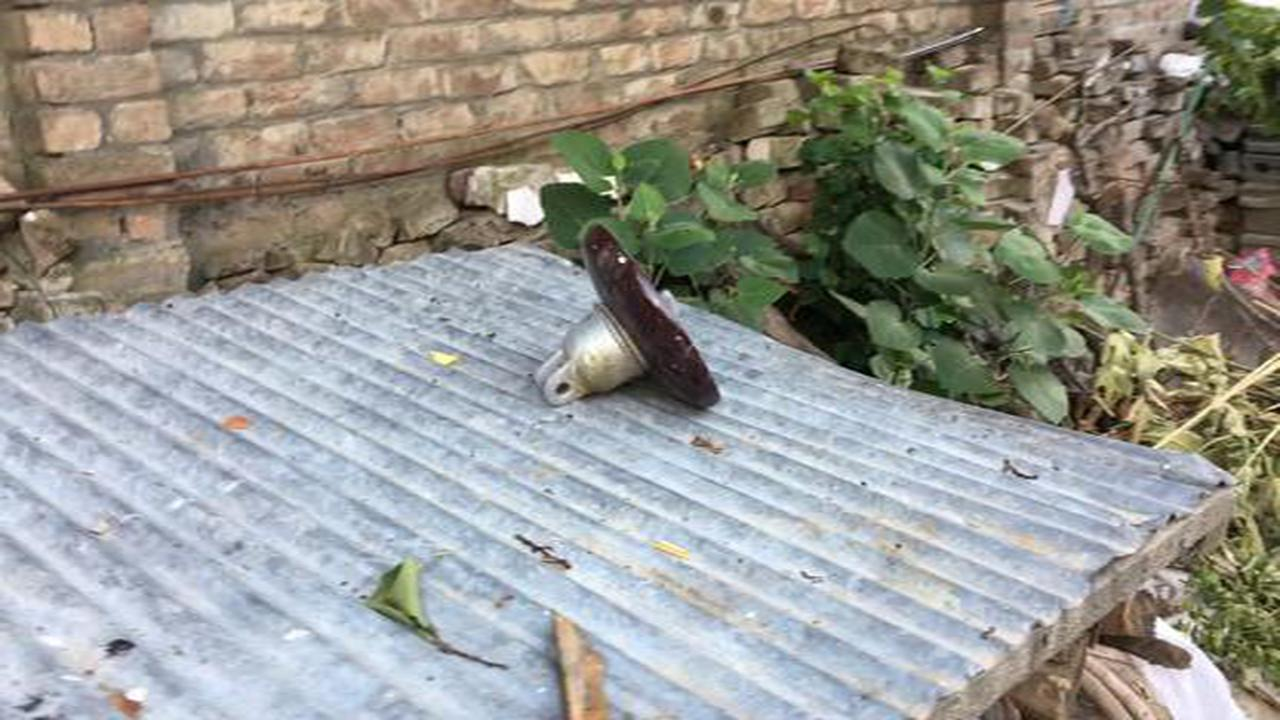insulator_disc: (530, 212, 729, 420)
